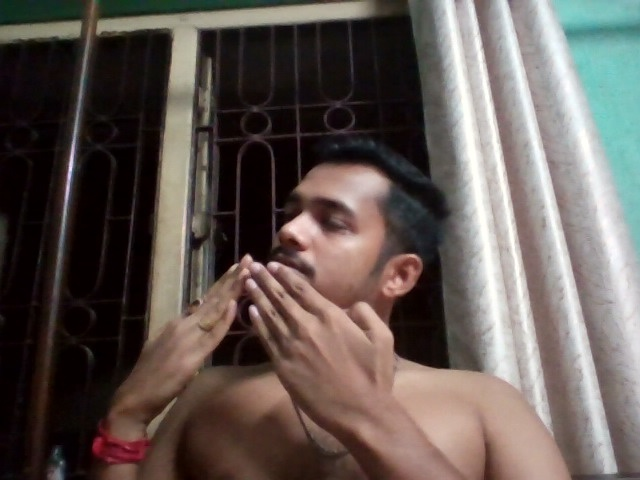Thankyou: (92, 244, 396, 445)
